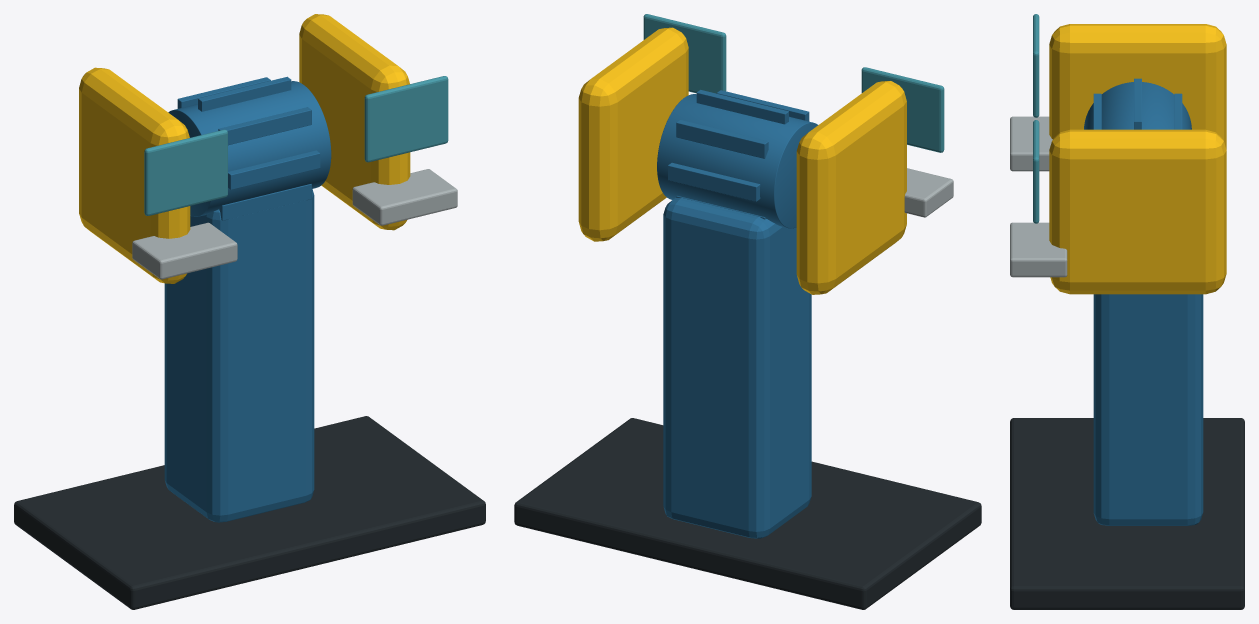
Rendered from pedestal_grinder.glb.
The picture shows the model from 3 angles, left to right: view 1: azimuth 30°, elevation 25°; view 2: azimuth 150°, elevation 25°; view 3: azimuth 270°, elevation 25°; orthographic projection.
Visible parts, largest first — view 1: MACHINE_BASE, PEDESTAL, WHEEL_GUARD_-0.48, WHEEL_GUARD_0.48, KIN_GRINDER_MOTOR, EYE_SHIELD_0.48, EYE_SHIELD_-0.48, WORK_REST_0.48, WORK_REST_-0.48, KIN_GRINDER_MOTOR_FIN_4, KIN_GRINDER_MOTOR_FIN_3, KIN_GRINDER_MOTOR_FIN_5 (+1 smaller); view 2: PEDESTAL, MACHINE_BASE, WHEEL_GUARD_-0.48, WHEEL_GUARD_0.48, KIN_GRINDER_MOTOR, EYE_SHIELD_-0.48, EYE_SHIELD_0.48, WORK_REST_-0.48, KIN_GRINDER_MOTOR_FIN_0, KIN_GRINDER_MOTOR_FIN_1, KIN_GRINDER_MOTOR_FIN_2; view 3: MACHINE_BASE, WHEEL_GUARD_0.48, PEDESTAL, WHEEL_GUARD_-0.48, KIN_GRINDER_MOTOR, WORK_REST_0.48, WORK_REST_-0.48, EYE_SHIELD_-0.48, EYE_SHIELD_0.48, KIN_GRINDER_MOTOR_FIN_2, KIN_GRINDER_MOTOR_FIN_1, KIN_GRINDER_MOTOR_FIN_3.
Boxes of the visible parts, left/top/right/bottom form: MACHINE_BASE: left=14, top=416, right=485, bottom=609; PEDESTAL: left=164, top=188, right=314, bottom=522; WHEEL_GUARD_-0.48: left=79, top=67, right=190, bottom=283; WHEEL_GUARD_0.48: left=299, top=14, right=410, bottom=230; KIN_GRINDER_MOTOR: left=168, top=81, right=331, bottom=216; EYE_SHIELD_0.48: left=364, top=76, right=448, bottom=162; EYE_SHIELD_-0.48: left=144, top=129, right=227, bottom=215; WORK_REST_0.48: left=352, top=169, right=457, bottom=225; WORK_REST_-0.48: left=132, top=222, right=237, bottom=279; KIN_GRINDER_MOTOR_FIN_4: left=228, top=150, right=320, bottom=189; KIN_GRINDER_MOTOR_FIN_3: left=218, top=107, right=311, bottom=145; KIN_GRINDER_MOTOR_FIN_5: left=219, top=184, right=311, bottom=220; PEDESTAL: left=663, top=197, right=811, bottom=538; MACHINE_BASE: left=514, top=418, right=981, bottom=609; WHEEL_GUARD_-0.48: left=796, top=81, right=906, bottom=294; WHEEL_GUARD_0.48: left=578, top=27, right=688, bottom=241; KIN_GRINDER_MOTOR: left=657, top=94, right=817, bottom=228; EYE_SHIELD_-0.48: left=861, top=67, right=944, bottom=152; EYE_SHIELD_0.48: left=643, top=14, right=726, bottom=93; WORK_REST_-0.48: left=904, top=168, right=953, bottom=217; KIN_GRINDER_MOTOR_FIN_0: left=668, top=162, right=760, bottom=201; KIN_GRINDER_MOTOR_FIN_1: left=676, top=120, right=768, bottom=158; KIN_GRINDER_MOTOR_FIN_2: left=696, top=89, right=788, bottom=124; MACHINE_BASE: left=1010, top=418, right=1244, bottom=609; WHEEL_GUARD_0.48: left=1049, top=129, right=1226, bottom=294; PEDESTAL: left=1093, top=294, right=1203, bottom=525; WHEEL_GUARD_-0.48: left=1049, top=24, right=1226, bottom=149; KIN_GRINDER_MOTOR: left=1084, top=82, right=1191, bottom=129; WORK_REST_0.48: left=1010, top=222, right=1067, bottom=277; WORK_REST_-0.48: left=1010, top=116, right=1052, bottom=171; EYE_SHIELD_-0.48: left=1033, top=14, right=1039, bottom=117; EYE_SHIELD_0.48: left=1033, top=120, right=1039, bottom=223; KIN_GRINDER_MOTOR_FIN_2: left=1134, top=78, right=1141, bottom=129; KIN_GRINDER_MOTOR_FIN_1: left=1174, top=93, right=1182, bottom=129; KIN_GRINDER_MOTOR_FIN_3: left=1093, top=93, right=1101, bottom=129.
Bounding box in the file's own units: 1.55 × 1.89 × 0.9.
